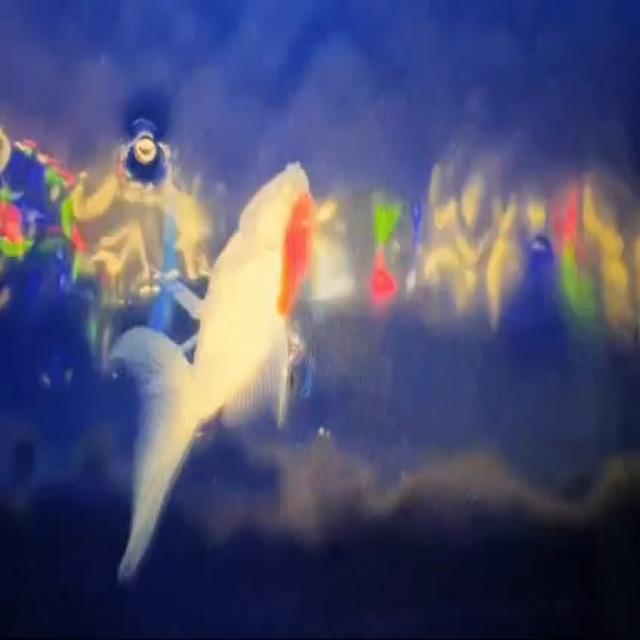fish: (115, 159, 318, 591)
